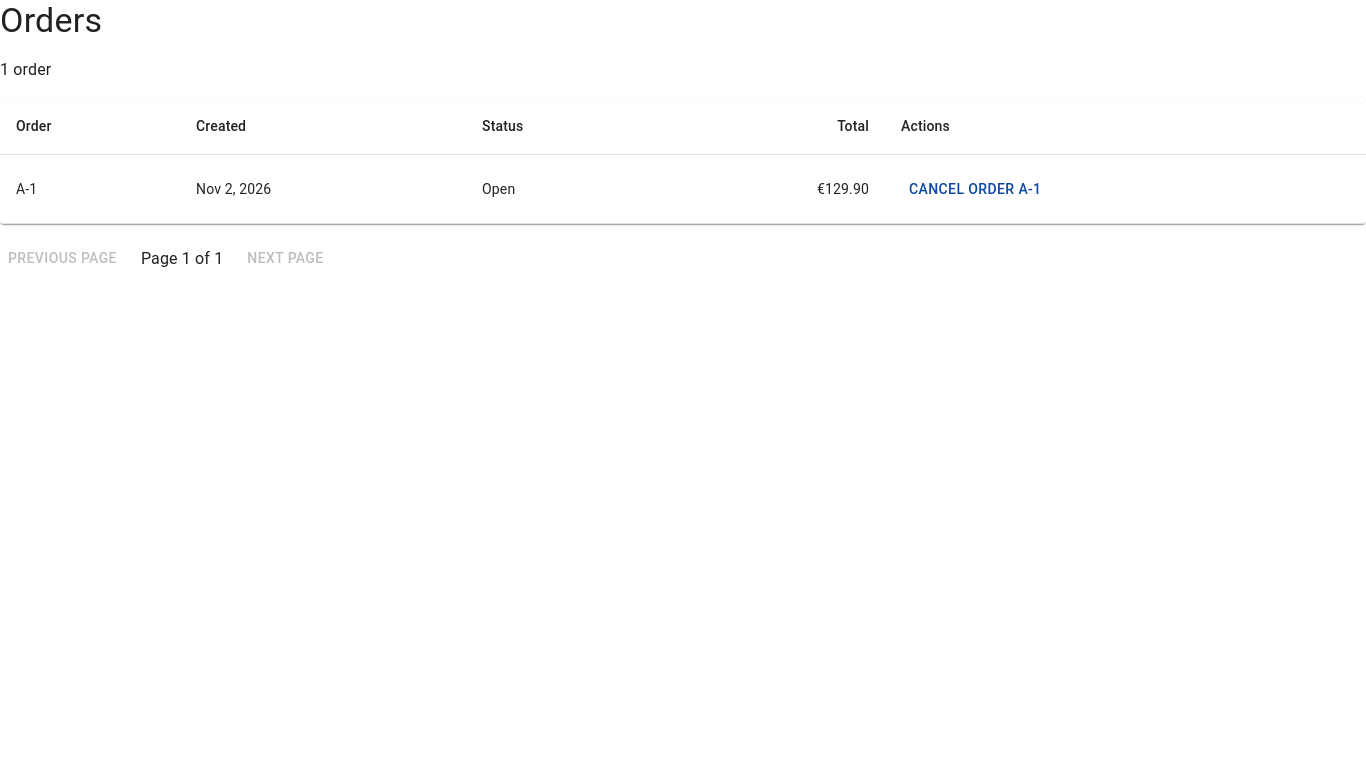
OrdersPage › shows the generic message for a technical error and leaves reporting to where it was created
Click the button "Cancel order A-1": (975, 189) [901,171,1050,208]
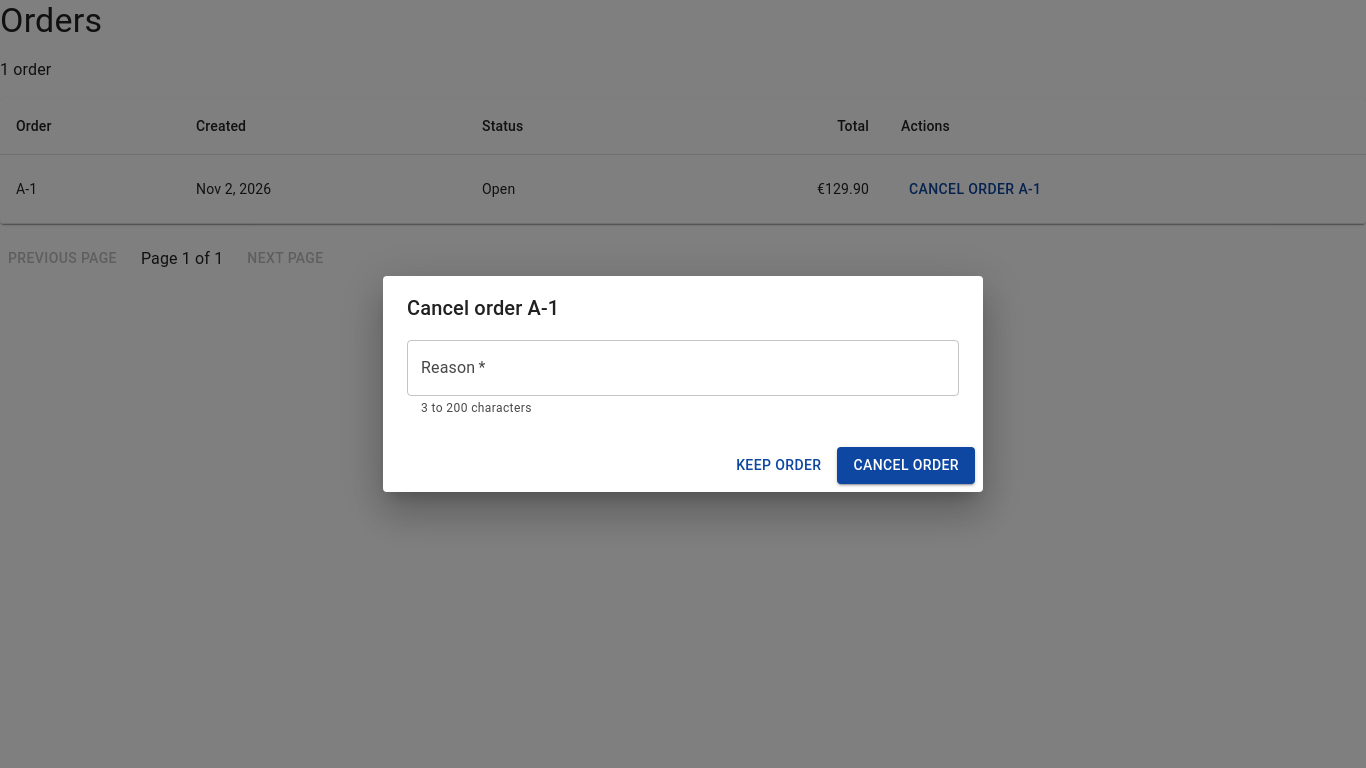
In the field labelled "Reason": (683, 368) [407,340,959,396], type "Ordered twice"
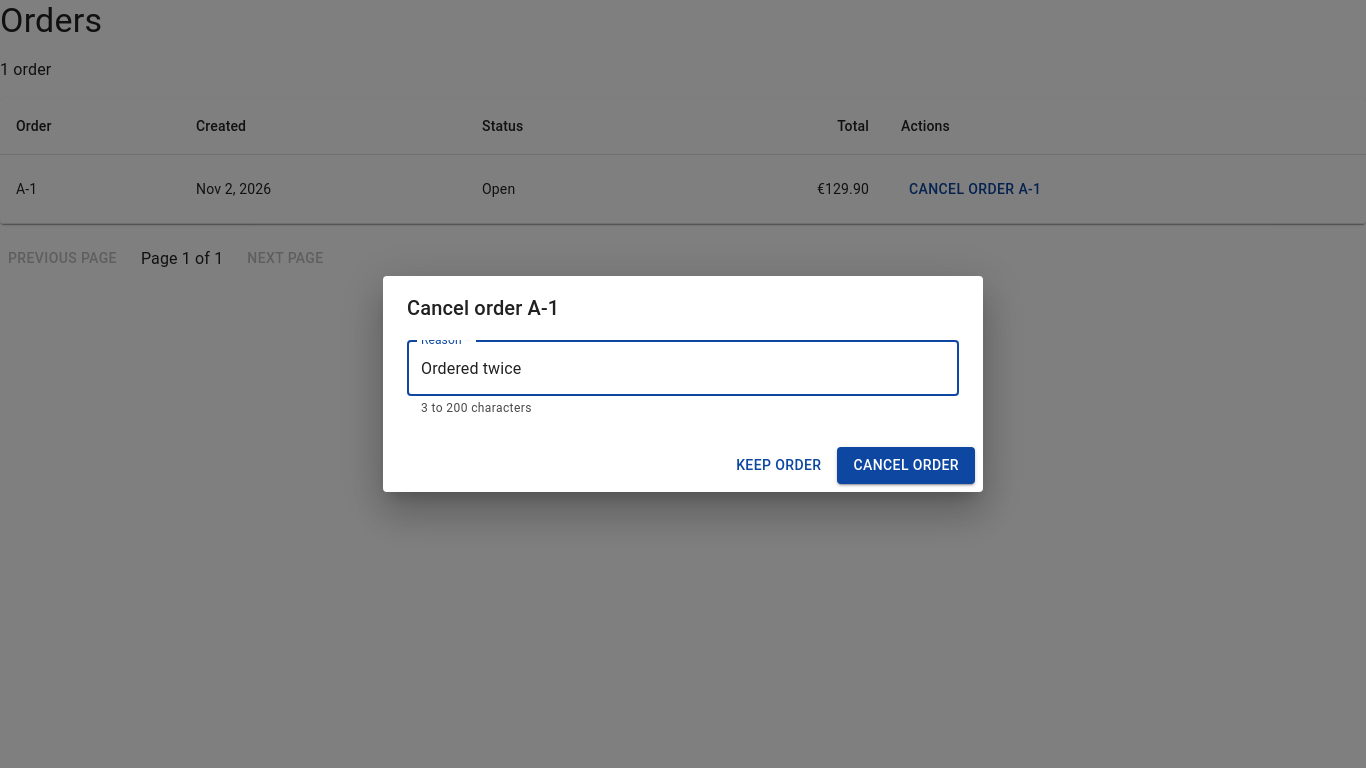
Click the button "Cancel order": (906, 465) [838,447,975,484]
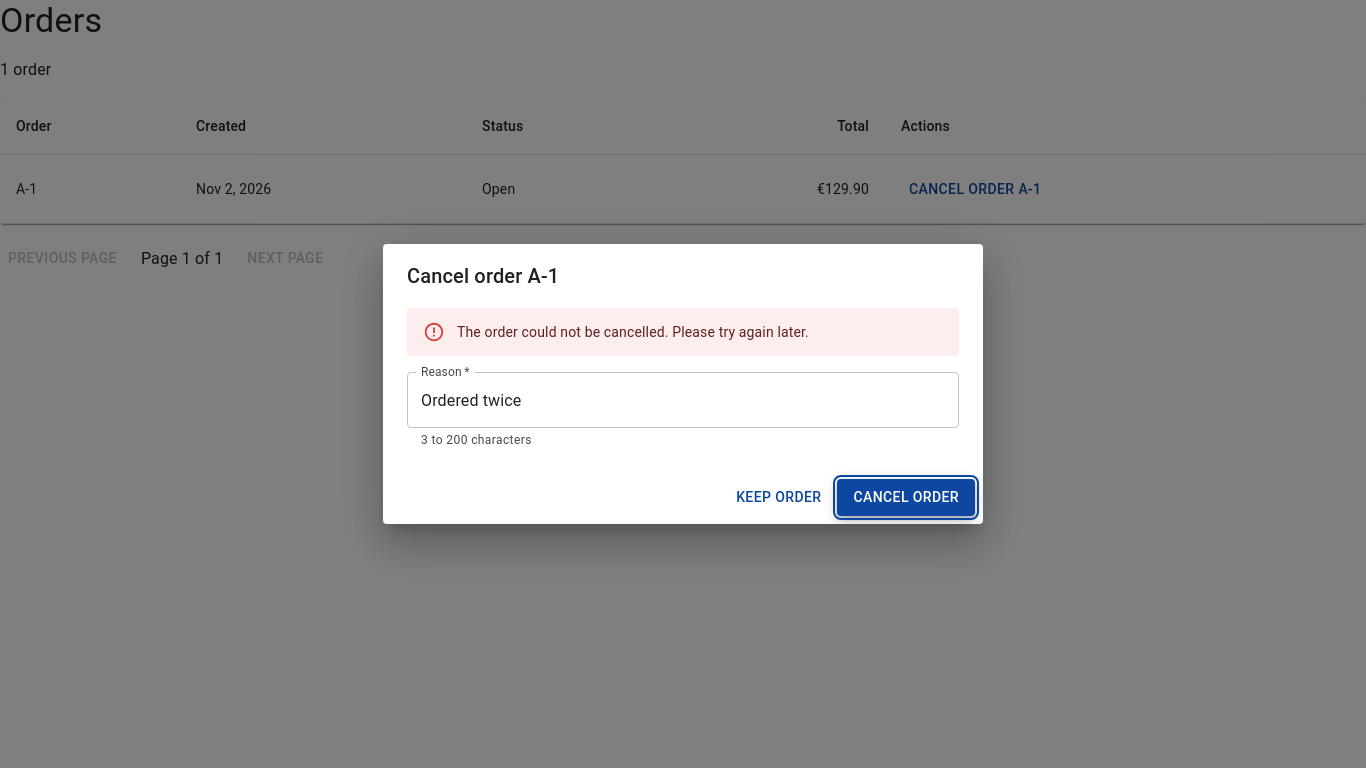
Expected: the message shows "could not be cancelled", [457,324,809,340]
